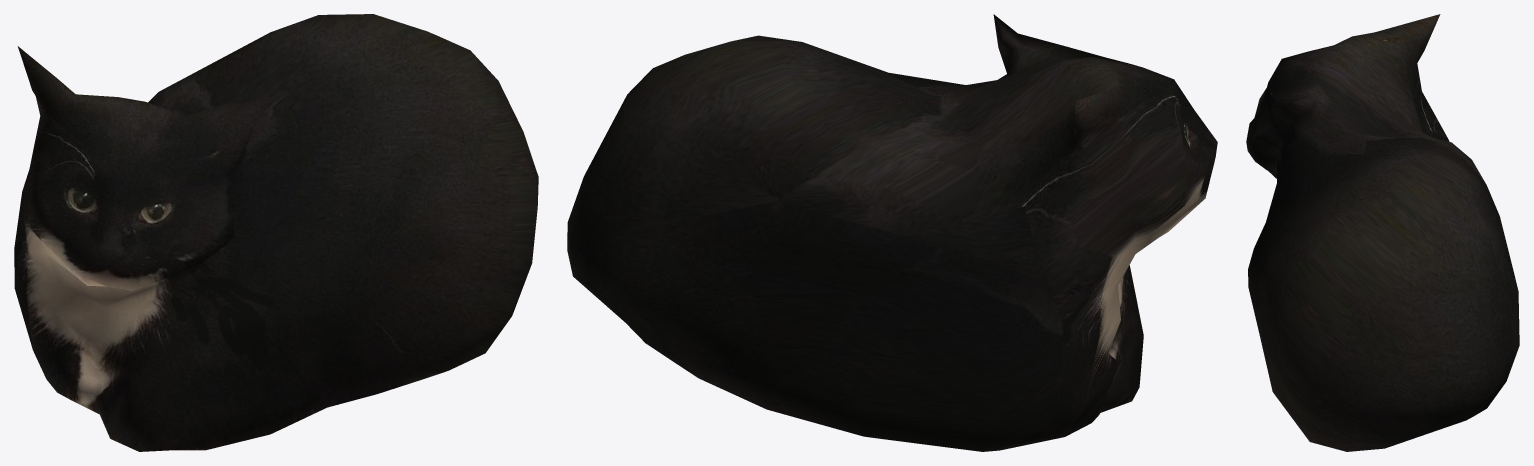
File: Maxwell.glb
The picture shows the model from 3 angles, left to right: view 1: azimuth 30°, elevation 25°; view 2: azimuth 150°, elevation 25°; view 3: azimuth 270°, elevation 25°; orthographic projection. The views are drawn at different scales.
Visible parts, largest first — view 1: Maxwell; view 2: Maxwell; view 3: Maxwell.
Part boxes in pixels (bbox=[...]): Maxwell: bbox=[14, 14, 538, 451]; Maxwell: bbox=[567, 14, 1217, 451]; Maxwell: bbox=[1246, 14, 1519, 451].
Bounding box in the file's own units: 4.1 × 2.7 × 2.27.
Materials: 1 (1 with a texture image).
